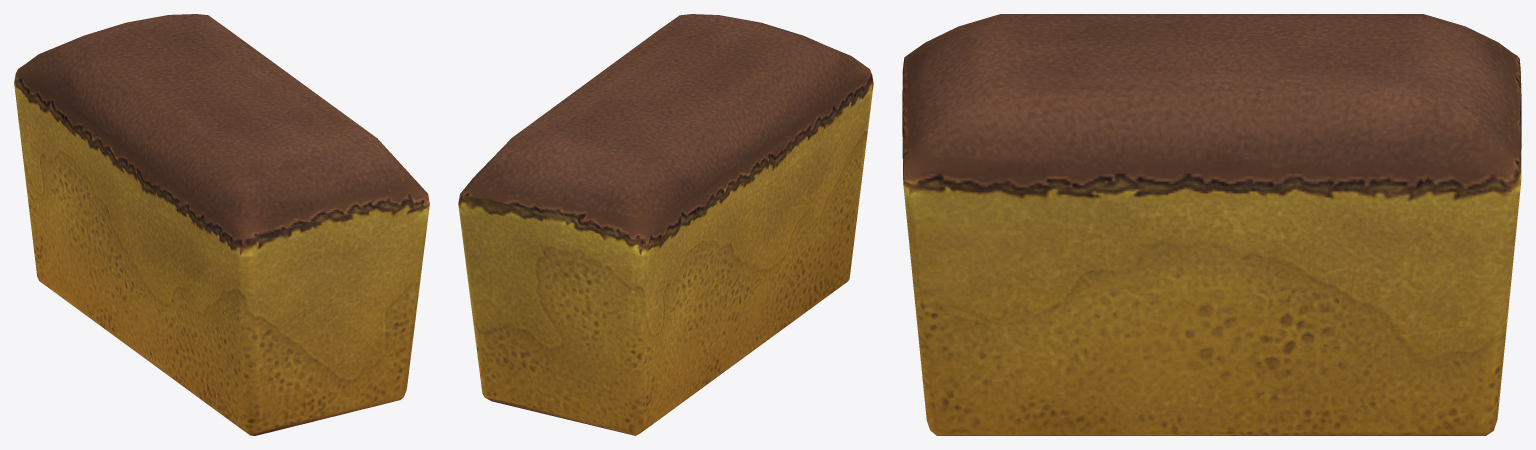
3 renders of one model, left to right at view 1: azimuth 30°, elevation 25°; view 2: azimuth 150°, elevation 25°; view 3: azimuth 270°, elevation 25°, orthographic. The views are drawn at different scales.
Parts seen in each view (by area): view 1: Cube.001; view 2: Cube.001; view 3: Cube.001.
Part boxes in pixels (bbox=[...]): Cube.001: bbox=[14, 14, 429, 435]; Cube.001: bbox=[458, 14, 873, 435]; Cube.001: bbox=[902, 14, 1521, 435].
Size of the model in its own units: 1.19 by 1.56 by 2.57.
Materials: 1 (1 with a texture image).
